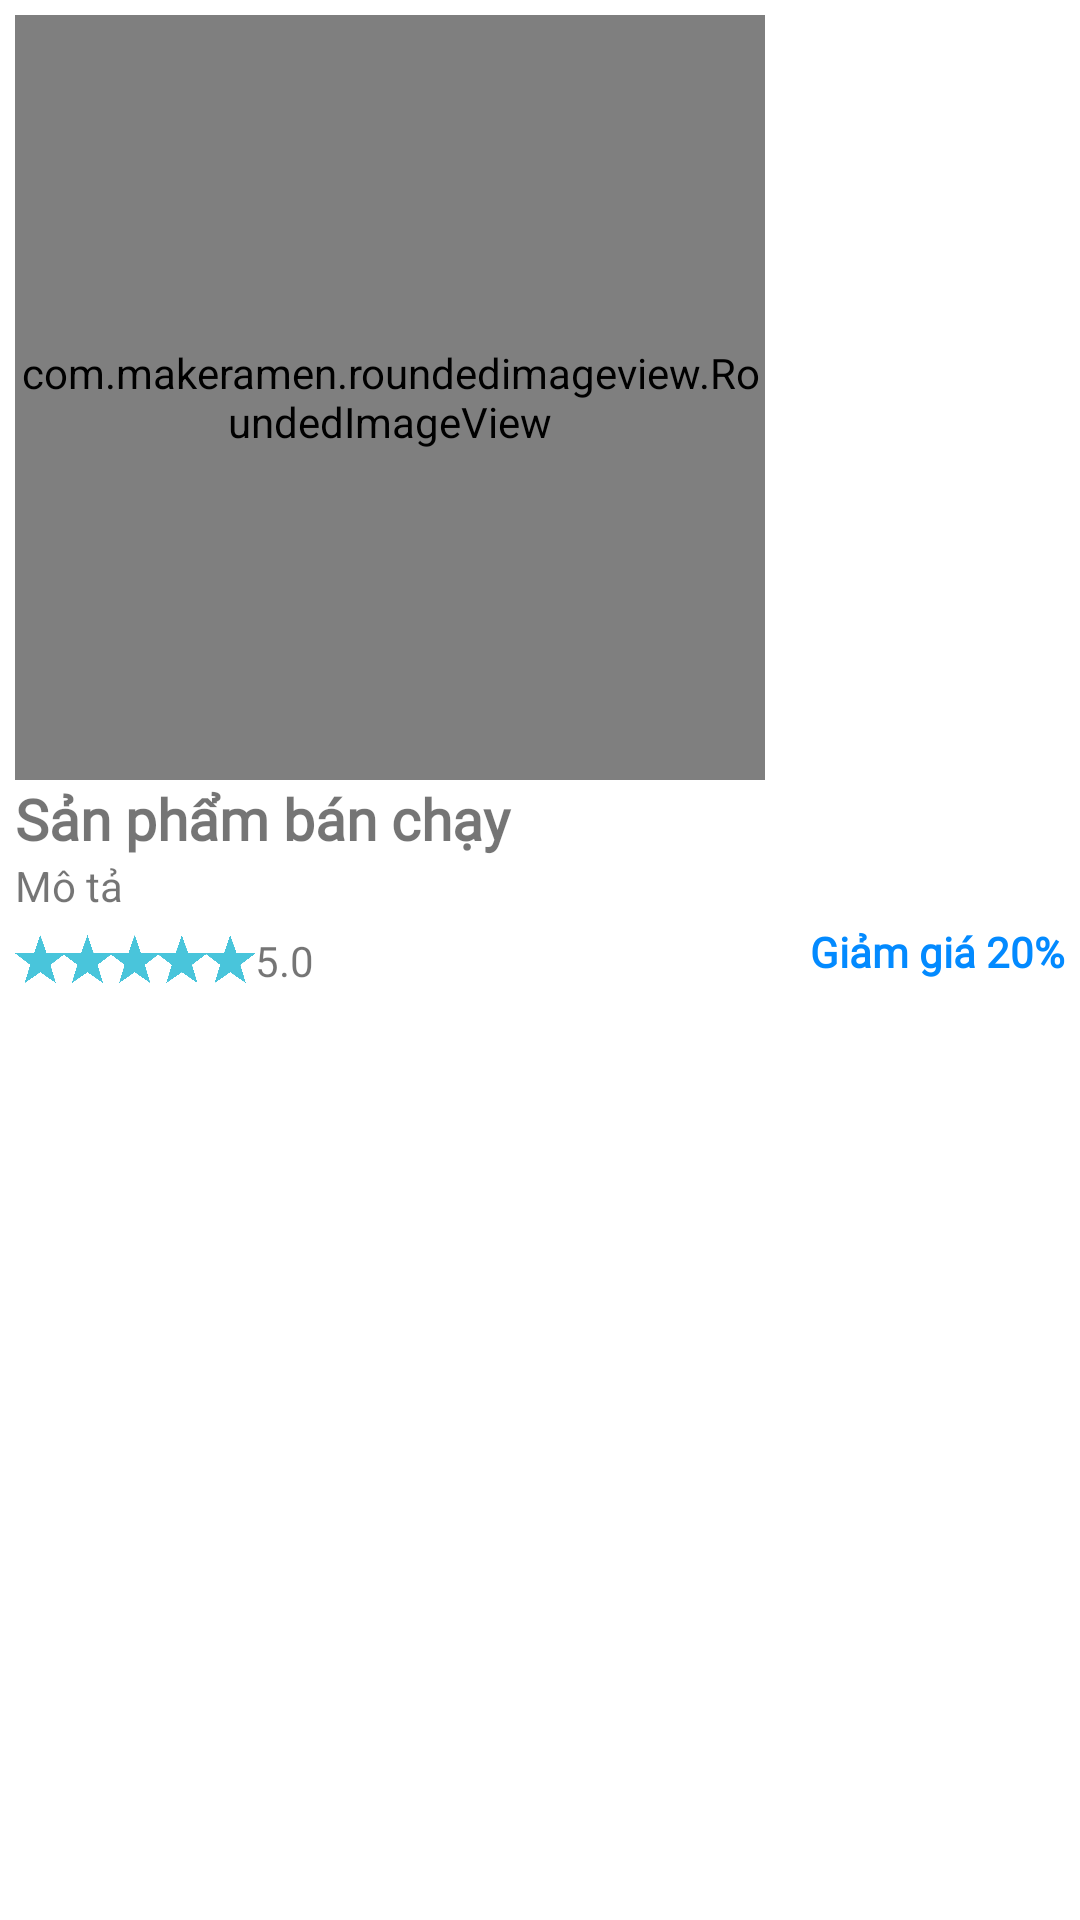

Where to tap for icons on this 1080 x 1920 app screen, as (x,y):
ratingbar: (135,959)
